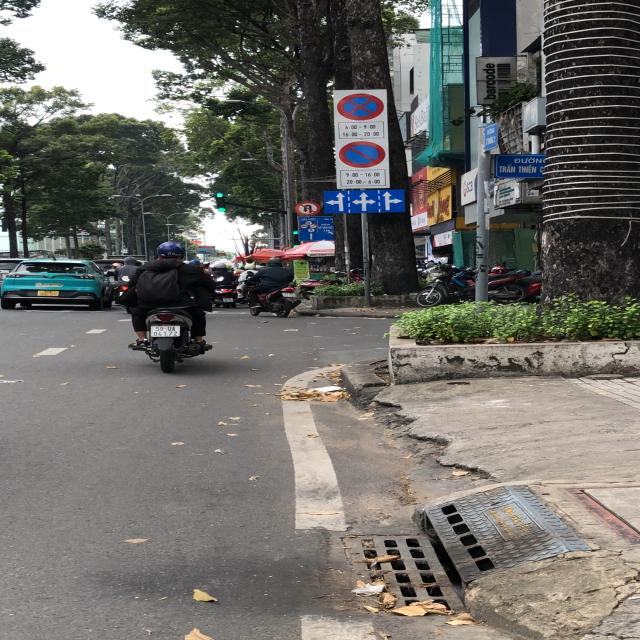Bien bao cam do xe: (339, 140, 391, 171)
Bien bao cam dung xe va do xe: (334, 93, 390, 124)
Bien bao cam quay dau xe: (294, 200, 322, 218)
